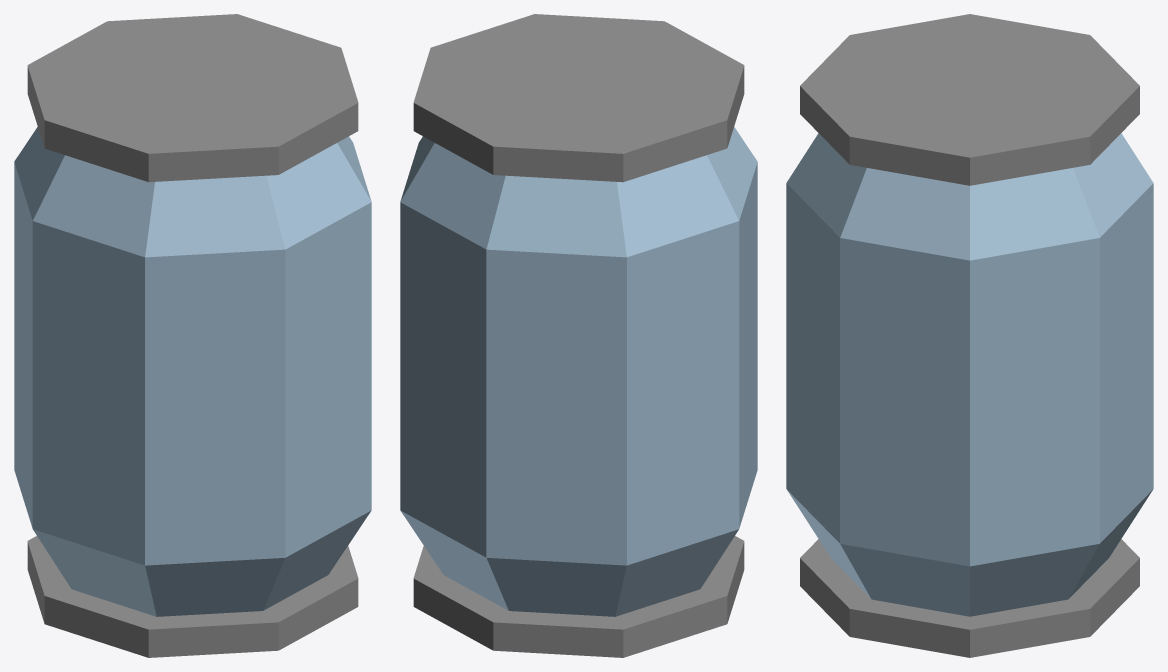
File: Canister.fbx
The picture shows the model from 3 angles, left to right: view 1: azimuth 30°, elevation 25°; view 2: azimuth 150°, elevation 25°; view 3: azimuth 270°, elevation 25°; orthographic projection.
Visible parts, largest first — view 1: Canister; view 2: Canister; view 3: Canister.
Boxes of the visible parts, left/top/right/bottom form: Canister: left=14, top=14, right=371, bottom=657; Canister: left=400, top=14, right=757, bottom=657; Canister: left=786, top=14, right=1153, bottom=657.
Size of the model in its own units: 0.6597 by 0.9915 by 0.6597.
